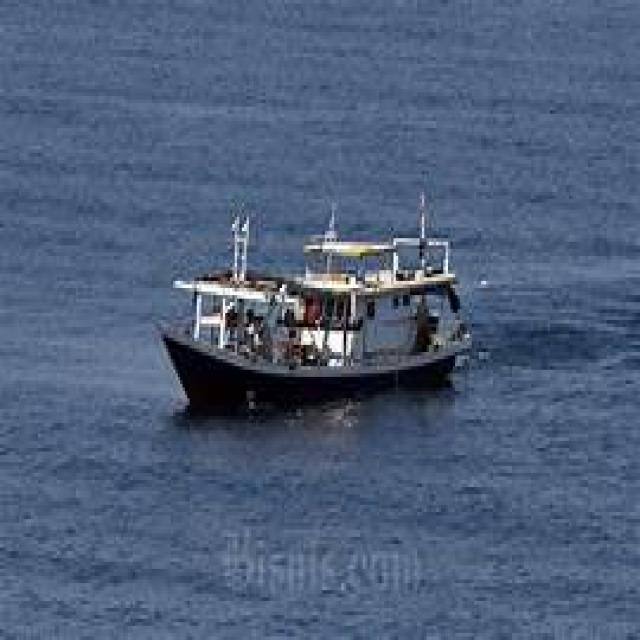Fishing Boat: (19, 84, 457, 426)
